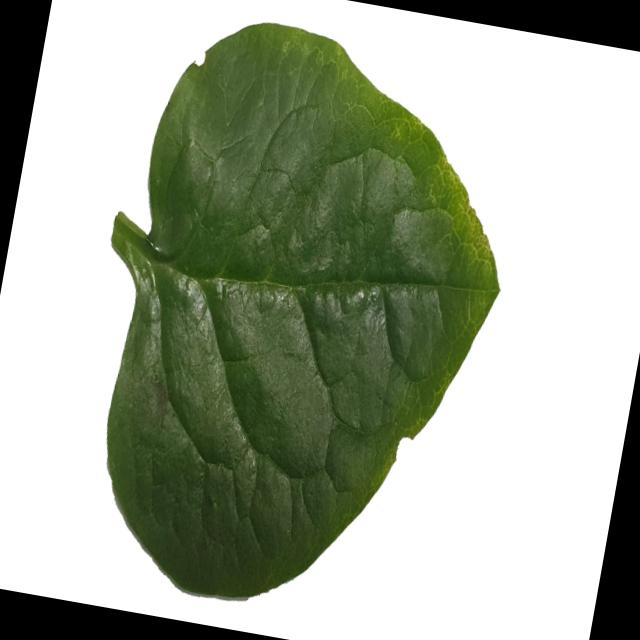Medicinal-Basale: (52, 0, 542, 636)
